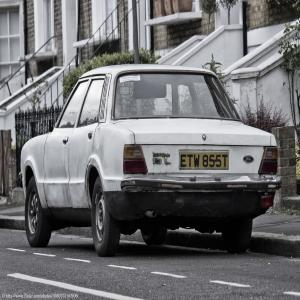Vehicle-registration-plate: (179, 152, 230, 171)
